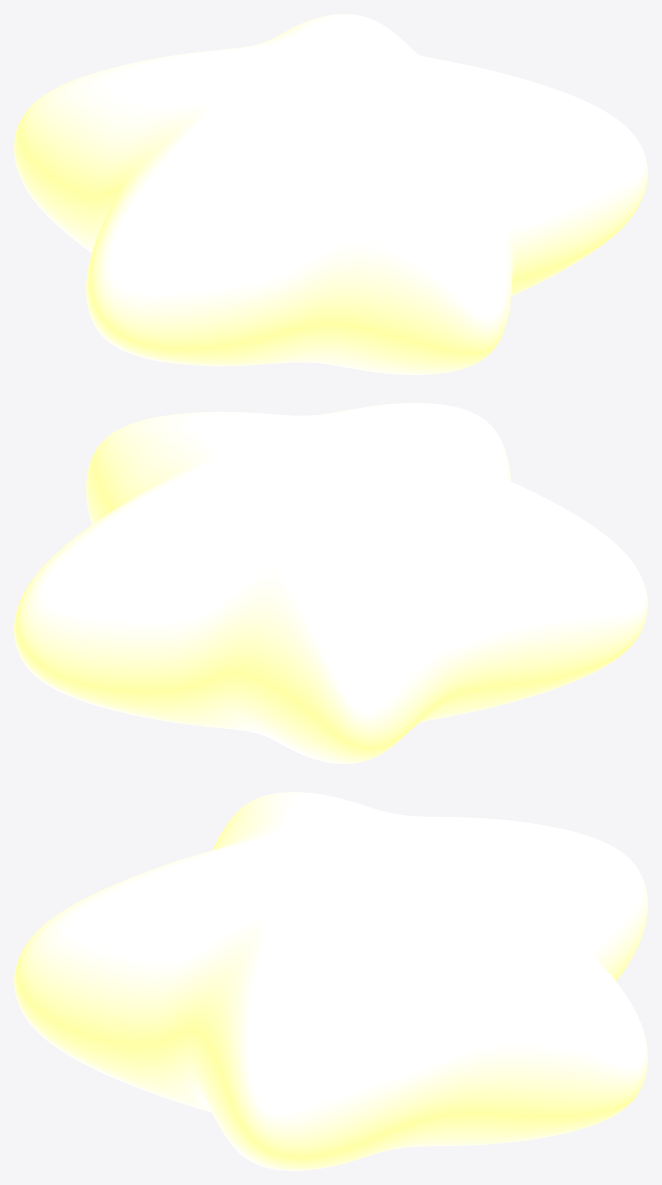
File: star.glb
The picture shows the model from 3 angles, top to bottom: view 1: azimuth 30°, elevation 25°; view 2: azimuth 150°, elevation 25°; view 3: azimuth 270°, elevation 25°; orthographic projection. The views are drawn at different scales.
Parts seen in each view (by area): view 1: star; view 2: star; view 3: star.
Boxes of the visible parts, left/top/right/bottom form: star: left=14, top=14, right=647, bottom=374; star: left=14, top=403, right=647, bottom=763; star: left=14, top=792, right=647, bottom=1170.
Bounding box in the file's own units: 1.59 × 0.7215 × 1.52.
